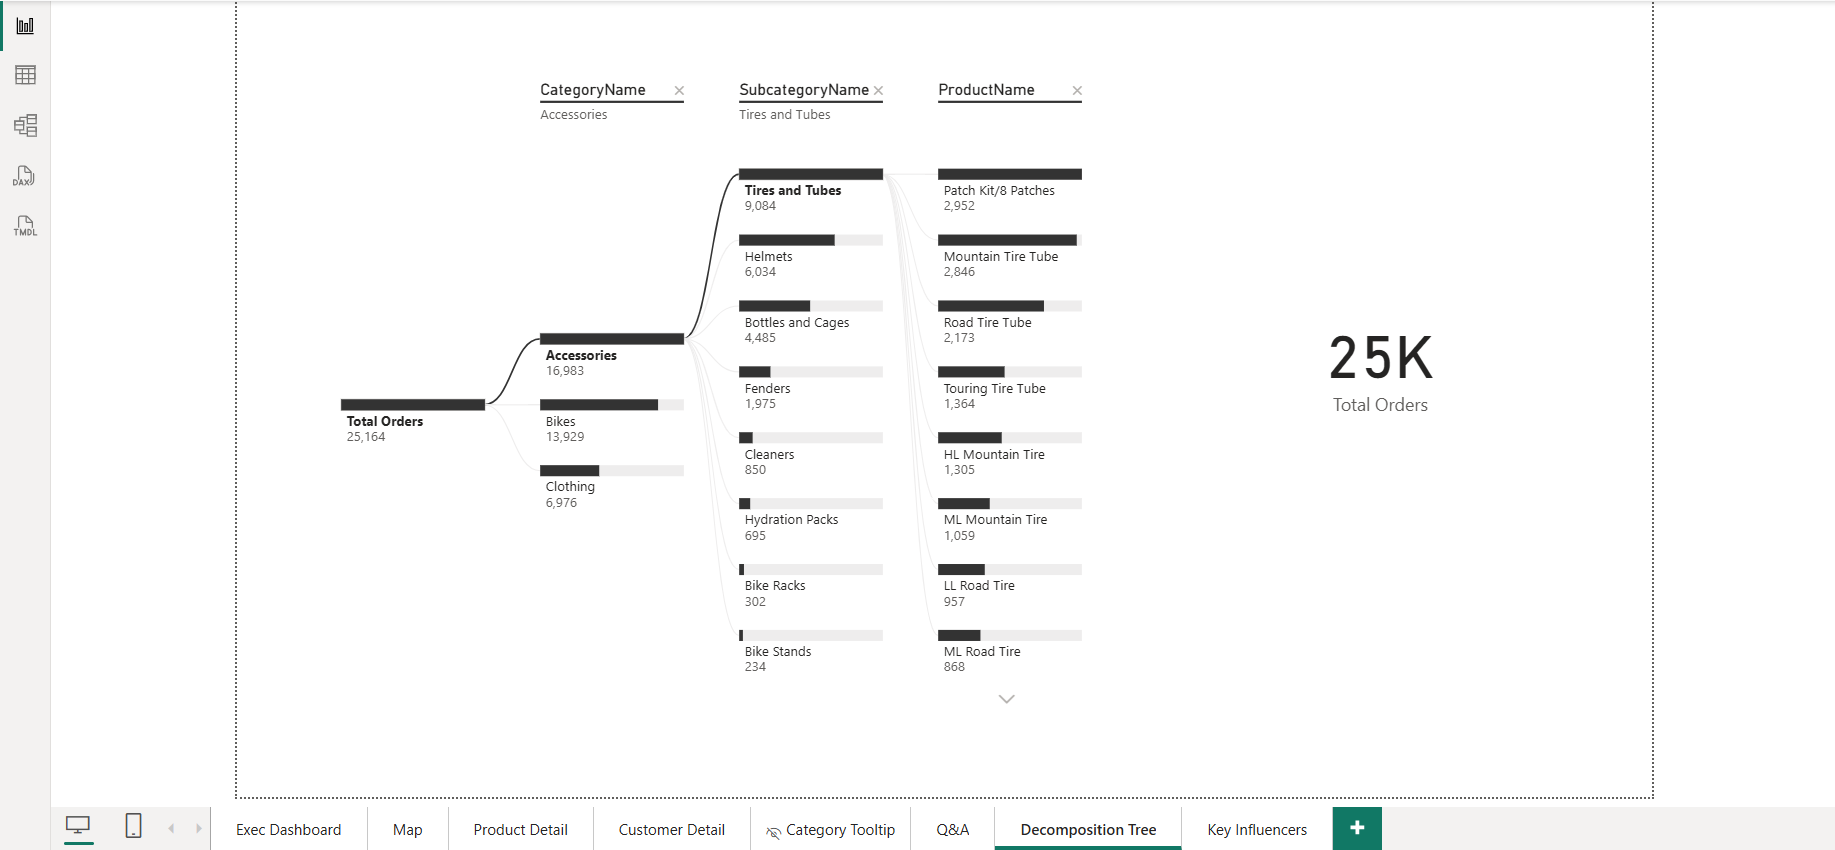

This screenshot's page, from the dashboard's own definition file:
{"tool":"powerbi","page":{"name":"Decomposition Tree","canvas":[1280,720],"ordinal":6},"visuals":[{"type":"decompositionTreeVisual","fields":{"Analyze":["Measure Table.Total Orders"],"ExplainBy":["Product Categories Lookup.CategoryName","Product Subcategories Lookup.SubcategoryName","Product Lookup.ProductName"]},"box":[64.4,55.4,773.1,597.9],"z":0},{"type":"card","fields":{"Values":["Measure Table.Total Orders"]},"box":[894.1,204.6,280.3,243],"z":1000}]}

Visuals, with their boxes on the page's 1280x720 design canvas (x1, y1, x2, y2). These are canvas units, not pixel positions in the 1835x850 screenshot, which may show the page scaled, cropped or inside an application window:
decompositionTreeVisual - Measure Table.Total Orders x Product Categories Lookup.CategoryName: l=64, t=55, r=838, b=653
card - Measure Table.Total Orders: l=894, t=205, r=1174, b=448
